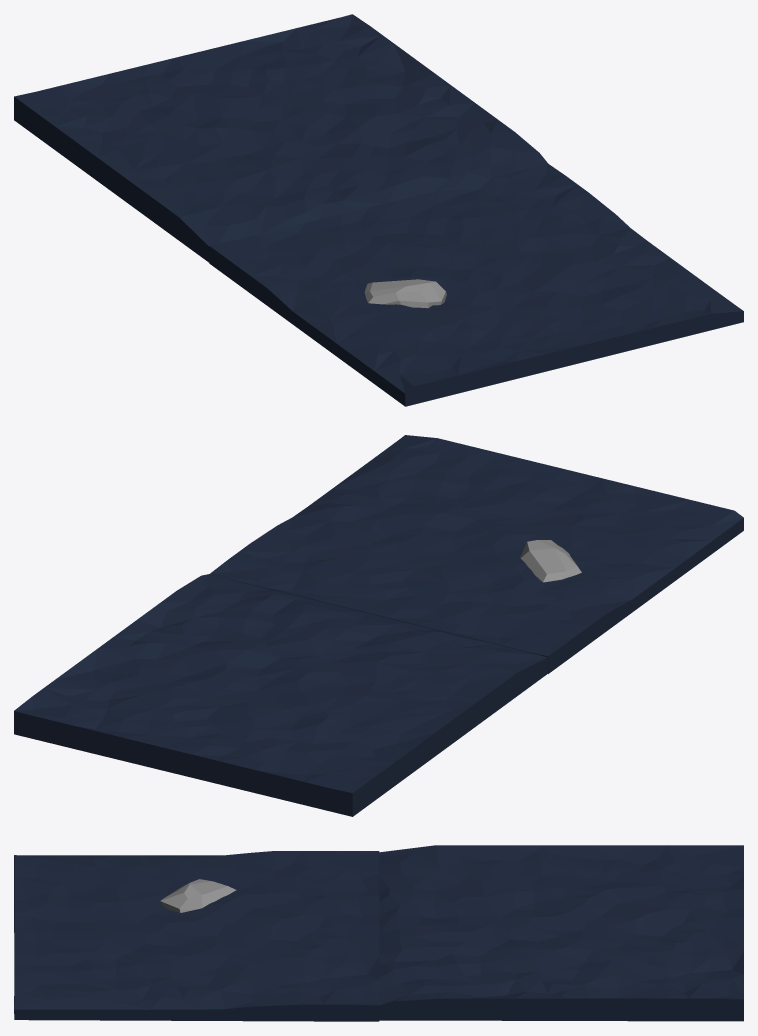
File: COMEÇO DO RIO 100_ OFICIAL.fbx
3 views of the same model, one above another, from view 1: azimuth 30°, elevation 25°; view 2: azimuth 150°, elevation 25°; view 3: azimuth 270°, elevation 25° (orthographic). The views are drawn at different scales.
Visible parts, largest first — view 1: rio.002, rio.003, pedra.011; view 2: rio.002, rio.003, pedra.011; view 3: rio.002, rio.003, pedra.011.
Boxes of the visible parts, left/top/right/bottom form: rio.002: left=14, top=14, right=547, bottom=262; rio.003: left=209, top=163, right=743, bottom=406; pedra.011: left=364, top=279, right=446, bottom=308; rio.002: left=14, top=574, right=547, bottom=816; rio.003: left=210, top=435, right=743, bottom=673; pedra.011: left=520, top=540, right=581, bottom=582; rio.002: left=378, top=845, right=743, bottom=1021; rio.003: left=14, top=851, right=379, bottom=1021; pedra.011: left=160, top=879, right=236, bottom=912.
Bounding box in the file's own units: 1001 × 82.92 × 2002.
3 materials, 3 textured.
